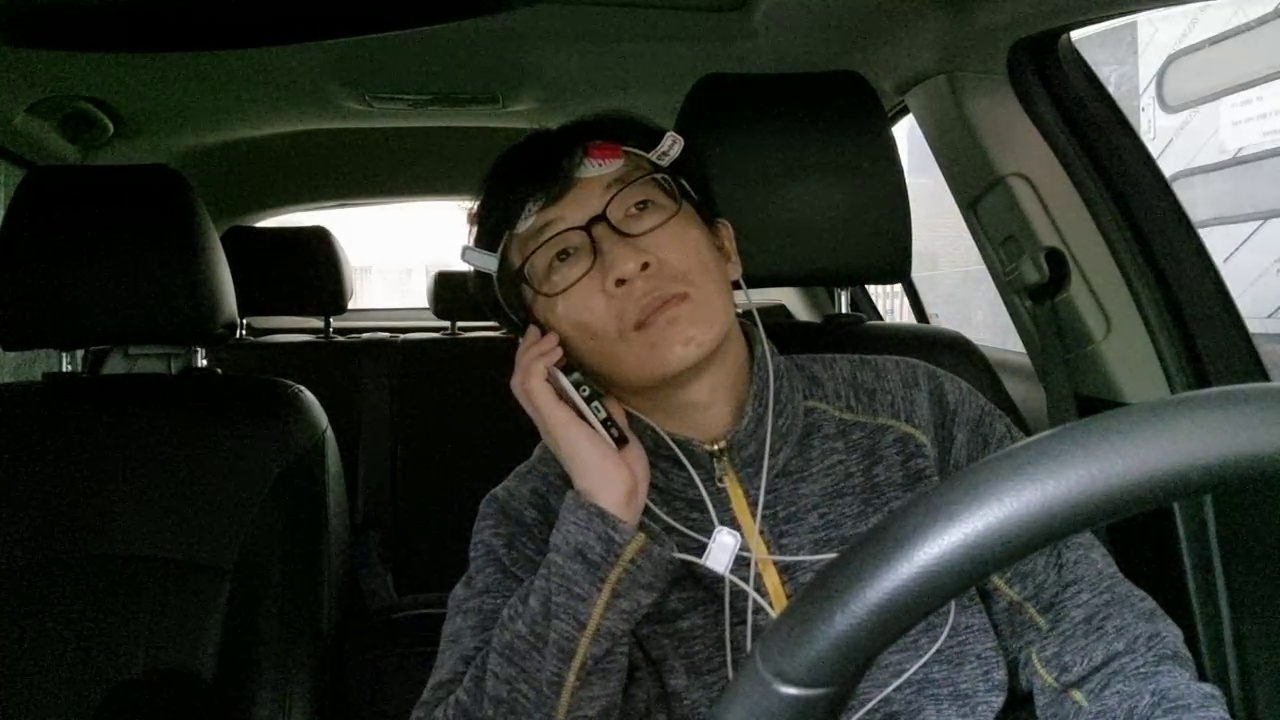phone: (497, 302, 665, 491)
